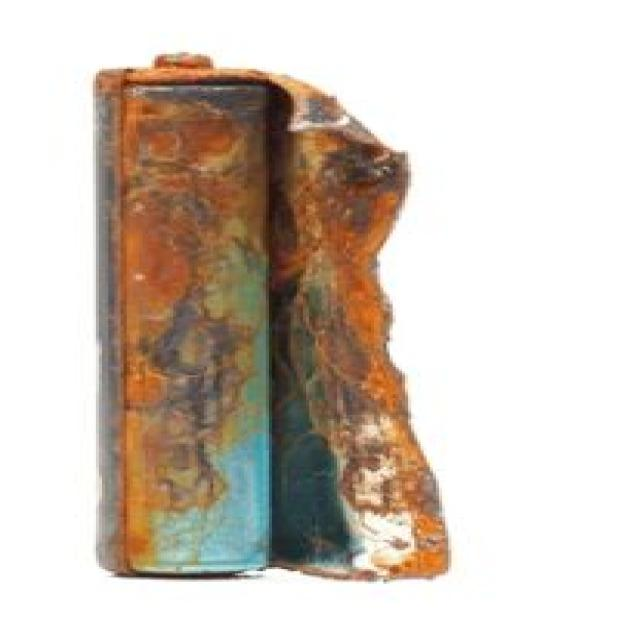electronic: (52, 20, 562, 624)
